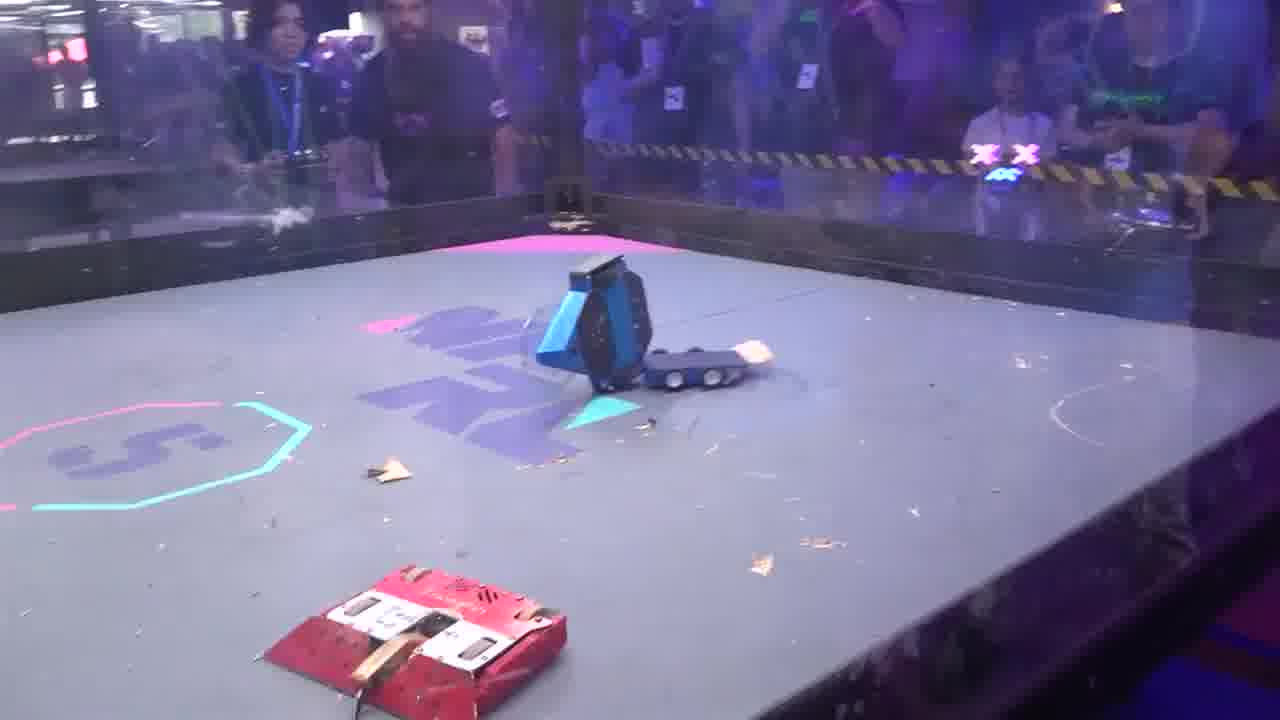combatbot: (258, 563, 572, 716), (540, 255, 655, 390), (642, 333, 778, 394)
debris: (362, 456, 414, 486)
